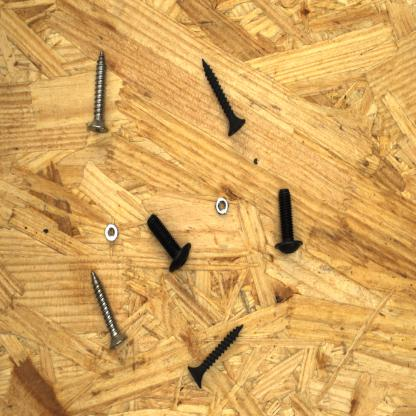screw: (69, 45, 139, 144), (195, 50, 257, 148), (180, 322, 247, 391), (86, 261, 135, 351), (142, 203, 196, 277), (262, 184, 314, 258)
